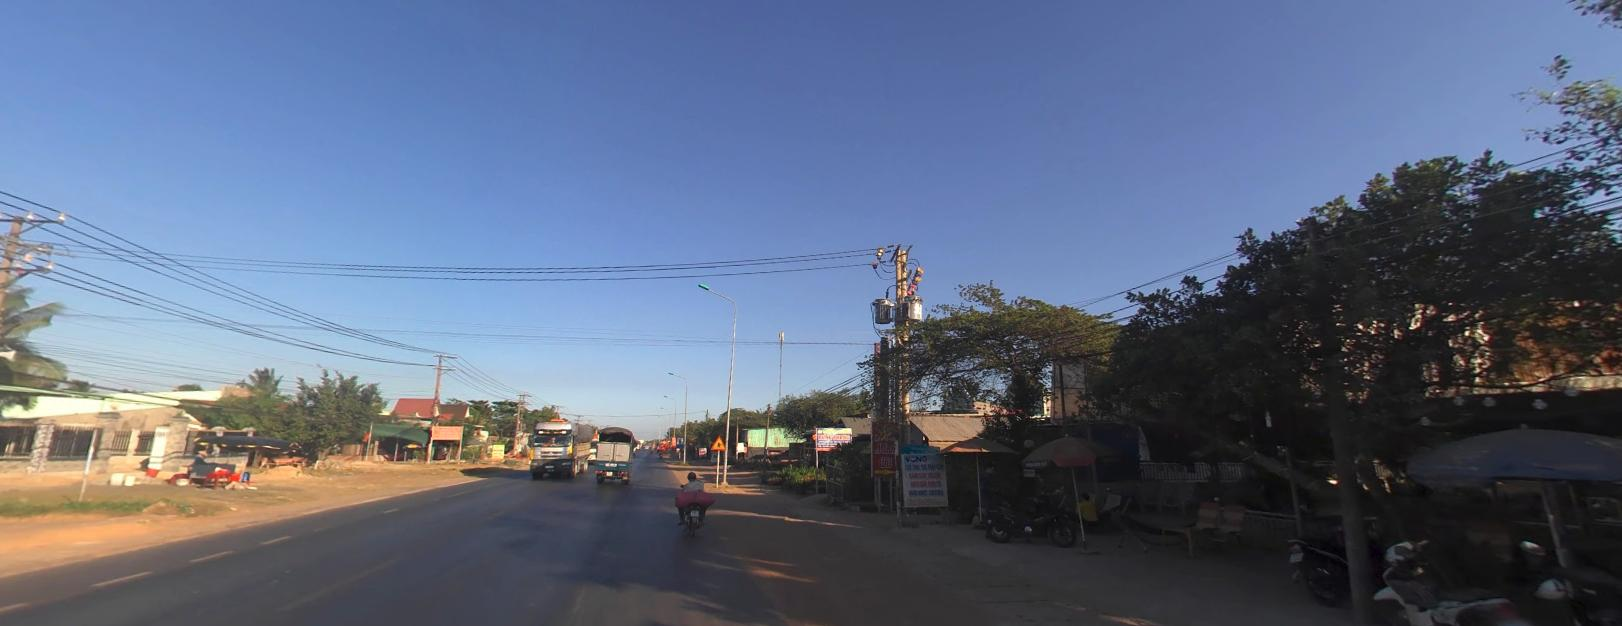Nguy hiem: (710, 434, 726, 449), (710, 434, 725, 448)
